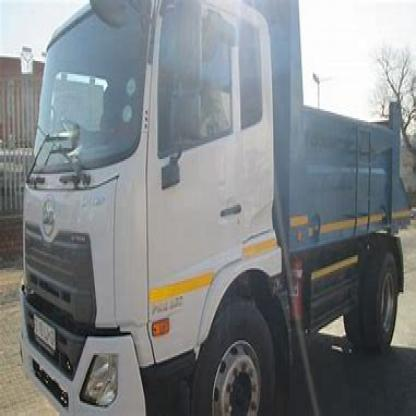dump_truck: (22, 2, 408, 414)
